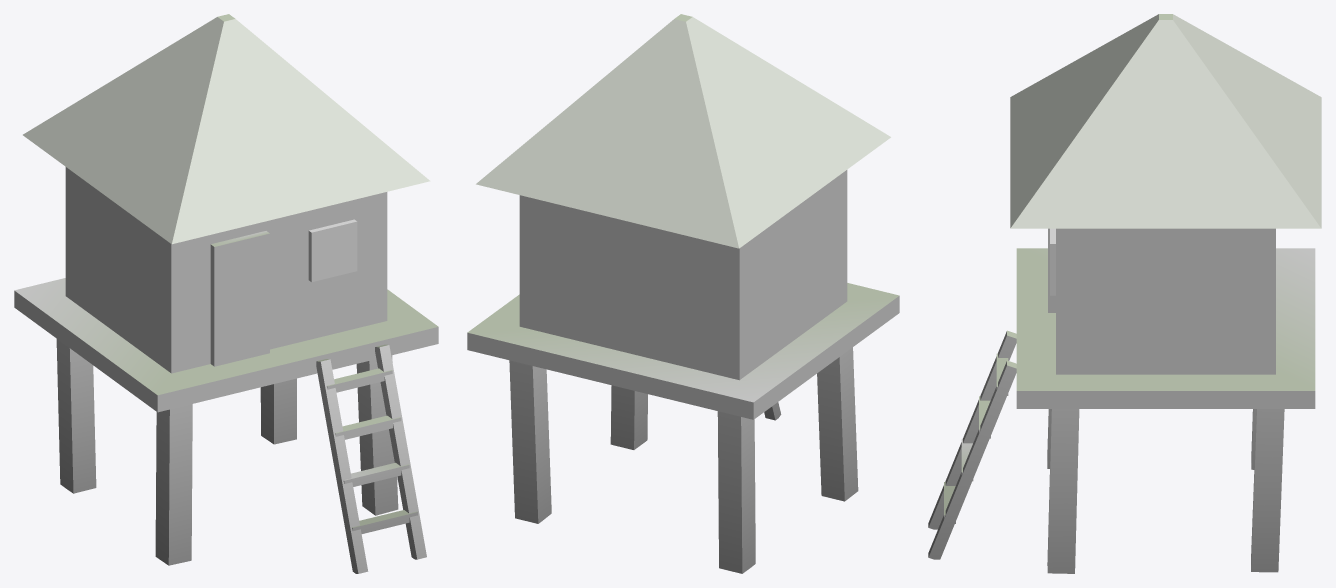
File: stilt_hut.glb
The picture shows the model from 3 angles, left to right: view 1: azimuth 30°, elevation 25°; view 2: azimuth 150°, elevation 25°; view 3: azimuth 270°, elevation 25°; orthographic projection. The views are drawn at different scales.
Visible parts, largest first — view 1: stilt_hut; view 2: stilt_hut; view 3: stilt_hut.
Part boxes in pixels (x1,y1,x2,y2): stilt_hut: [14, 14, 438, 573]; stilt_hut: [467, 14, 899, 573]; stilt_hut: [928, 14, 1321, 573].
Size of the model in its own units: 1.72 by 2.8 by 2.
